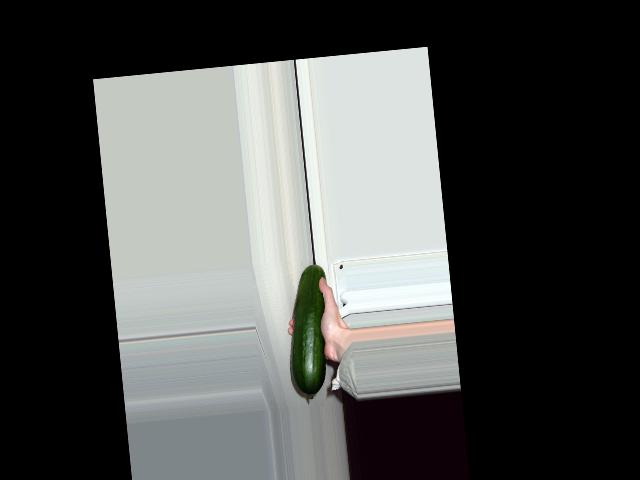cucumber: (280, 263, 336, 400)
